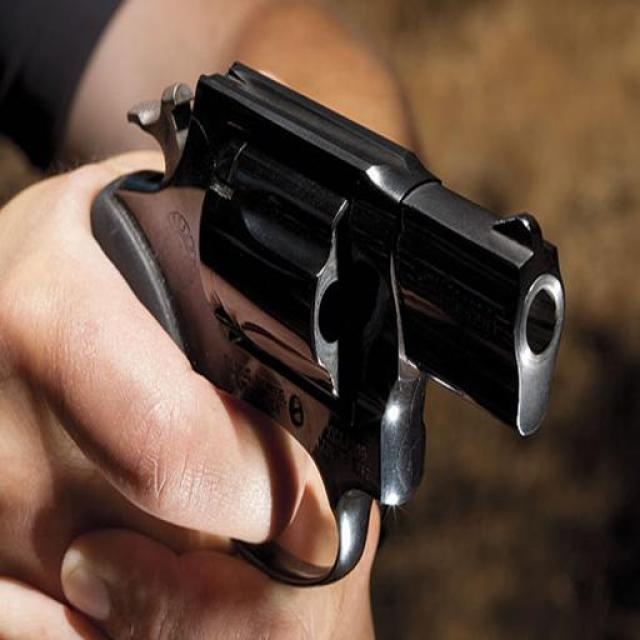pistol: (76, 53, 566, 589)
